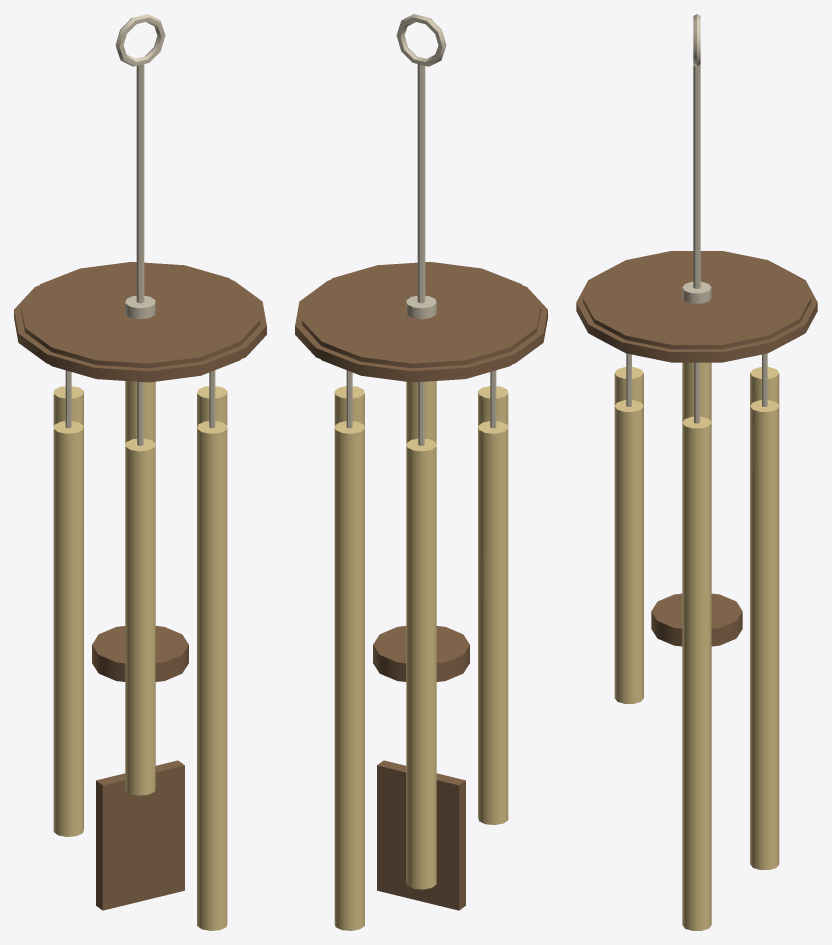
The model's file is WindChimes.fbx.
3 renders of one model, left to right at view 1: azimuth 30°, elevation 25°; view 2: azimuth 150°, elevation 25°; view 3: azimuth 270°, elevation 25°, orthographic. The views are drawn at different scales.
Visible parts, largest first — view 1: SM_Prop_WindChimes_01, SM_Prop_WindChimes_01_Sail_01; view 2: SM_Prop_WindChimes_01, SM_Prop_WindChimes_01_Sail_01; view 3: SM_Prop_WindChimes_01.
Boxes of the visible parts, bbox=[...] form: SM_Prop_WindChimes_01: bbox=[14, 14, 266, 930]; SM_Prop_WindChimes_01_Sail_01: bbox=[96, 760, 184, 910]; SM_Prop_WindChimes_01: bbox=[295, 14, 547, 930]; SM_Prop_WindChimes_01_Sail_01: bbox=[377, 760, 465, 910]; SM_Prop_WindChimes_01: bbox=[576, 14, 817, 930].
Bounding box in the file's own units: 14.43 × 59.17 × 14.8.
